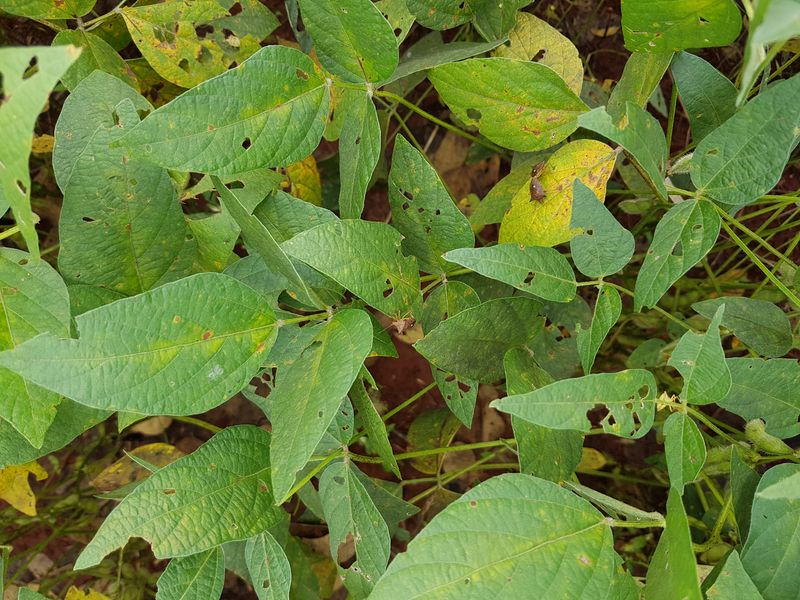Euschistus_heros_adulto: (383, 308, 422, 339), (521, 179, 554, 209), (524, 157, 550, 179)
Euschistus_heros_ninfa: (650, 388, 681, 416), (223, 30, 245, 51)
